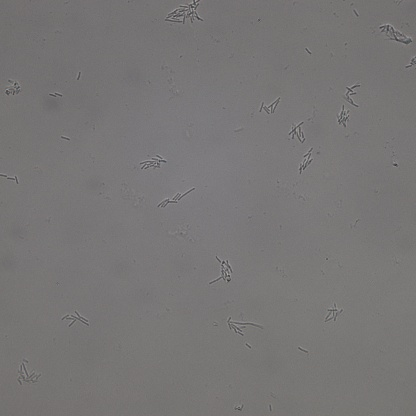R(colony): (164, 1, 203, 24), (378, 23, 412, 46), (158, 187, 194, 208), (208, 256, 232, 286), (228, 316, 264, 336), (16, 359, 41, 386), (139, 153, 167, 170), (62, 310, 89, 327), (289, 120, 306, 143), (324, 303, 343, 323), (260, 97, 281, 115), (299, 148, 314, 173), (345, 84, 361, 107), (336, 104, 351, 128), (3, 78, 21, 96)
